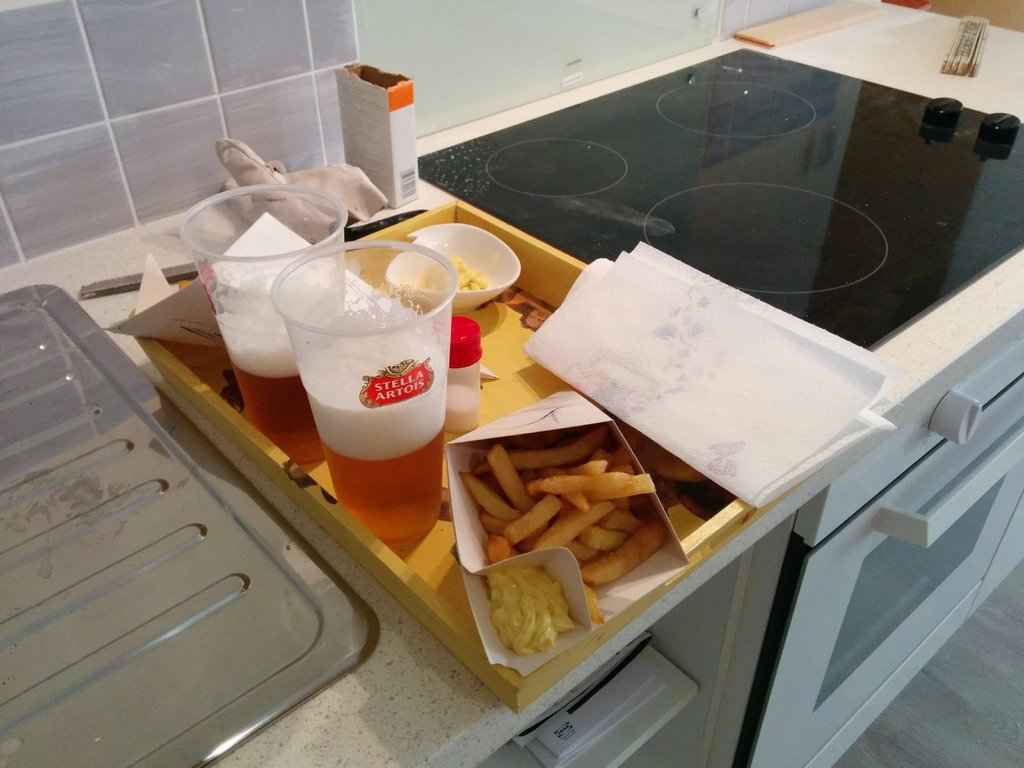French fries: (428, 423, 688, 600)
